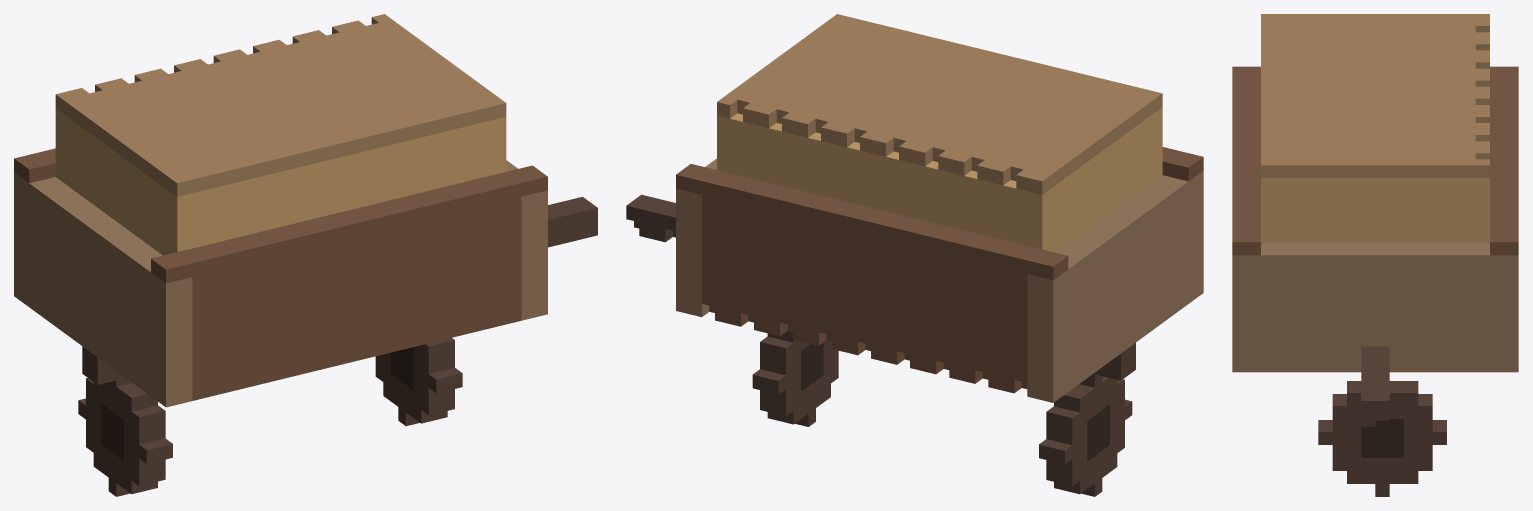
Rendered from hearthvale_hay_cart.obj.
The picture shows the model from 3 angles, left to right: view 1: azimuth 30°, elevation 25°; view 2: azimuth 150°, elevation 25°; view 3: azimuth 270°, elevation 25°; orthographic projection. The views are drawn at different scales.
Visible parts, largest first — view 1: palette_1, palette_13, palette_7, palette_14, palette_8, palette_15; view 2: palette_1, palette_13, palette_7, palette_14, palette_8, palette_15; view 3: palette_13, palette_7, palette_14, palette_1, palette_8, palette_15.
Boxes of the visible parts, left/top/right/bottom form: palette_1: left=14, top=148, right=547, bottom=400; palette_13: left=55, top=14, right=506, bottom=196; palette_7: left=14, top=160, right=547, bottom=407; palette_14: left=55, top=108, right=506, bottom=255; palette_8: left=78, top=196, right=597, bottom=496; palette_15: left=101, top=347, right=413, bottom=460; palette_1: left=676, top=147, right=1203, bottom=393; palette_13: left=717, top=14, right=1162, bottom=194; palette_7: left=676, top=158, right=1203, bottom=402; palette_14: left=717, top=107, right=1162, bottom=252; palette_8: left=626, top=194, right=1135, bottom=496; palette_15: left=801, top=343, right=1109, bottom=461; palette_13: left=1261, top=14, right=1489, bottom=178; palette_7: left=1232, top=243, right=1518, bottom=372; palette_14: left=1261, top=178, right=1489, bottom=243; palette_1: left=1232, top=66, right=1518, bottom=255; palette_8: left=1318, top=346, right=1446, bottom=496; palette_15: left=1361, top=419, right=1403, bottom=457.
Bounding box in the file's own units: 4.75 × 3.25 × 2.5.
